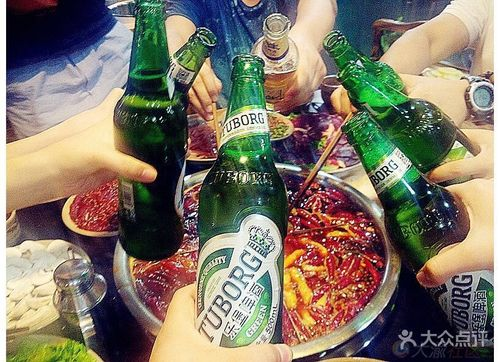food: (276, 172, 394, 349)
